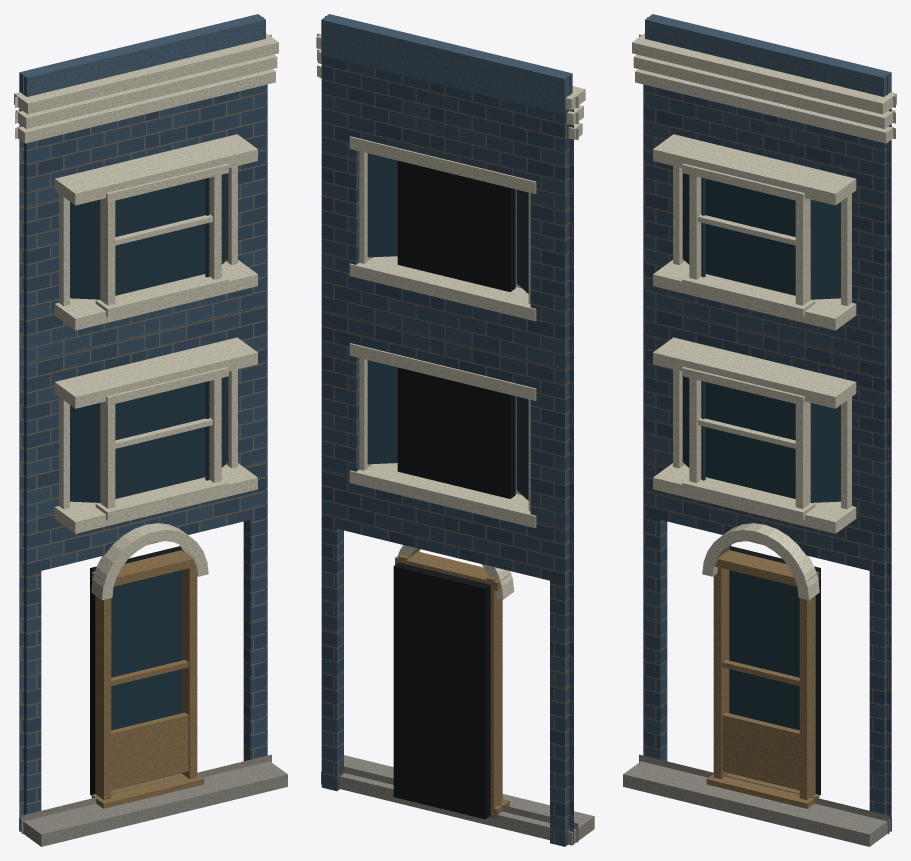
File: VICT13_lod2.glb
3 views of the same model, side by side, from view 1: azimuth 30°, elevation 25°; view 2: azimuth 150°, elevation 25°; view 3: azimuth 330°, elevation 25° (orthographic).
Parts seen in each view (by area): view 1: VICT13_FRONT_LOD2; view 2: VICT13_FRONT_LOD2; view 3: VICT13_FRONT_LOD2.
Boxes of the visible parts, x1=… form: VICT13_FRONT_LOD2: x1=14, y1=14, x2=287, y2=846; VICT13_FRONT_LOD2: x1=316, y1=14, x2=594, y2=846; VICT13_FRONT_LOD2: x1=623, y1=14, x2=896, y2=846.
Size of the model in its own units: 3.44 by 9.66 by 0.765.
8 materials, 6 textured.
